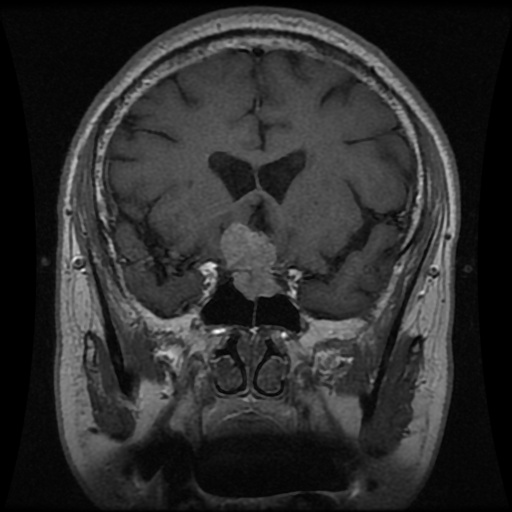pituitary: (220, 221, 278, 301)
